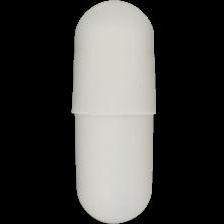64205-101: (0, 0, 224, 224)
